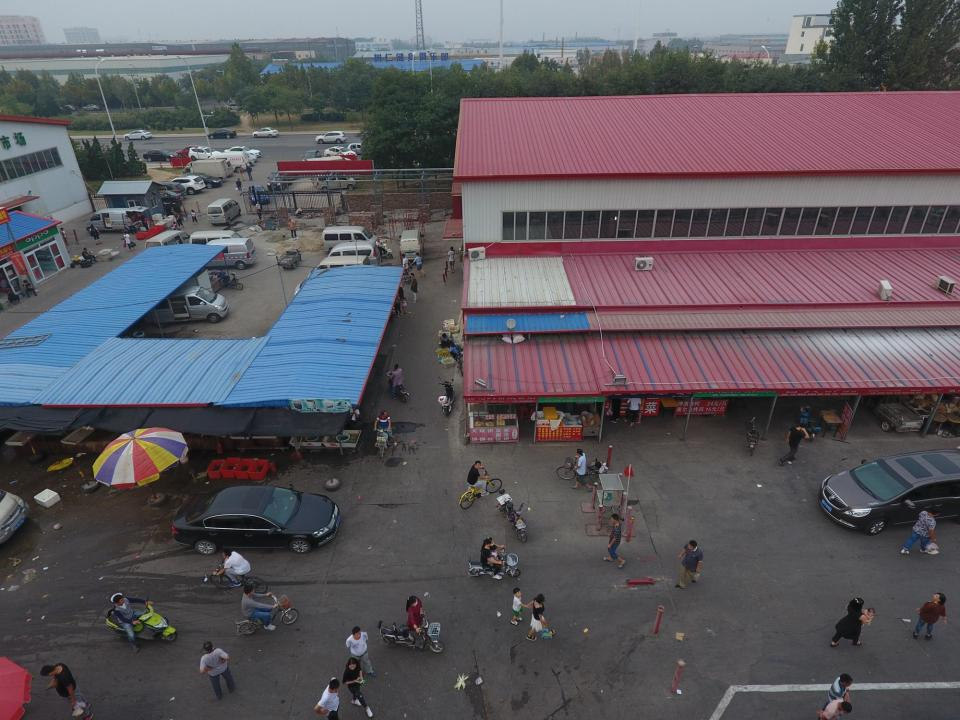car: (817, 449, 960, 533), (172, 486, 338, 553), (144, 184, 183, 204), (167, 174, 204, 193), (184, 170, 222, 188), (149, 180, 187, 198), (315, 172, 356, 188), (324, 146, 359, 162), (269, 166, 293, 189), (144, 148, 180, 163), (188, 144, 224, 158), (223, 145, 261, 158), (248, 184, 270, 206), (347, 141, 378, 156), (315, 130, 347, 144), (172, 144, 204, 156), (206, 127, 237, 139), (253, 126, 280, 139), (303, 149, 323, 166), (123, 130, 152, 141), (225, 102, 250, 112), (58, 102, 77, 114), (81, 103, 102, 112)
truck: (185, 160, 229, 180)
van: (146, 287, 228, 322), (199, 238, 256, 270), (311, 254, 374, 280), (322, 225, 380, 251), (187, 230, 244, 256), (145, 230, 191, 260), (86, 207, 144, 230), (328, 241, 380, 266), (207, 198, 241, 224), (399, 228, 422, 265), (199, 154, 234, 176)
